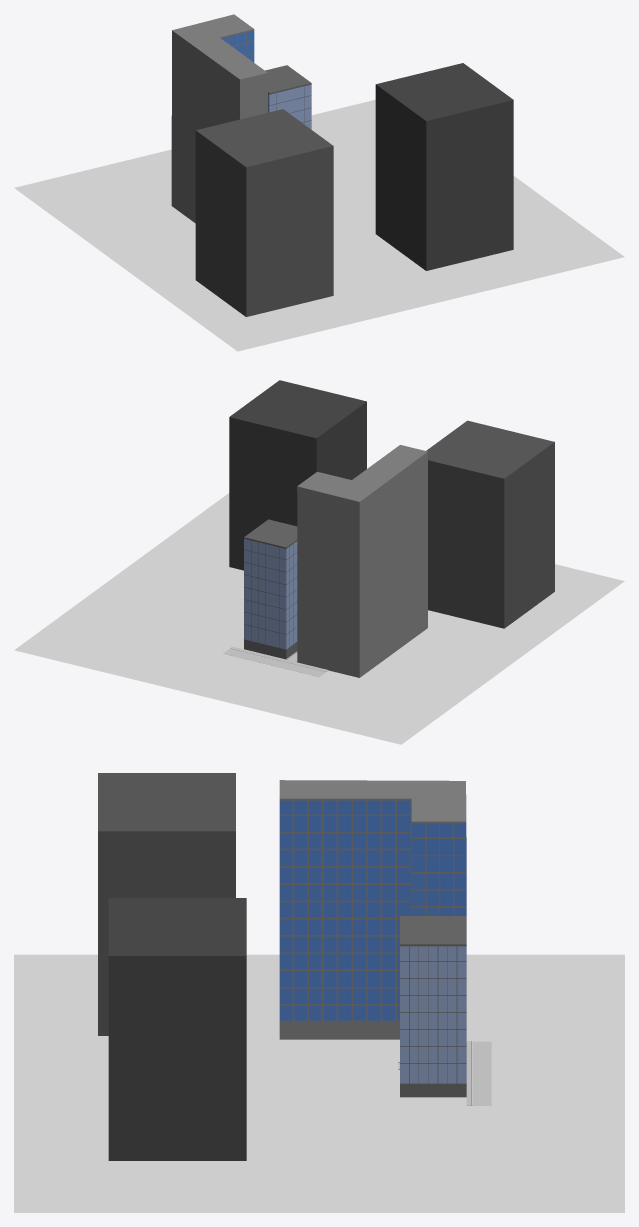
Rendered from OuterWalls.fbx.
The picture shows the model from 3 angles, top to bottom: view 1: azimuth 30°, elevation 25°; view 2: azimuth 150°, elevation 25°; view 3: azimuth 270°, elevation 25°; orthographic projection. The views are drawn at different scales.
Visible parts, largest first — view 1: Plaza, BackgroundBuilding1, BackgroundBuilding2, Building 55, Building 22; view 2: Plaza, Building 55, BackgroundBuilding1, BackgroundBuilding2, Building 22, Street; view 3: Plaza, Building 55, BackgroundBuilding2, BackgroundBuilding1, Building 22, Street.
Part boxes in pixels (x1,y1,x2,y2): Plaza: (14,99,624,351); BackgroundBuilding1: (195,109,333,316); BackgroundBuilding2: (375,63,513,270); Building 55: (171,14,267,223); Building 22: (265,65,311,129); Plaza: (14,493,624,744); Building 55: (297,445,427,677); BackgroundBuilding1: (426,420,554,628); BackgroundBuilding2: (229,380,366,570); Building 22: (244,519,297,659); Street: (223,646,328,676); Plaza: (14,954,624,1212); Building 55: (279,780,466,1039); BackgroundBuilding2: (108,898,246,1160); BackgroundBuilding1: (98,773,235,1035); Building 22: (400,916,466,1097); Street: (398,1041,491,1105).
Bounding box in the file's own units: 16387 × 7150 × 16387.
